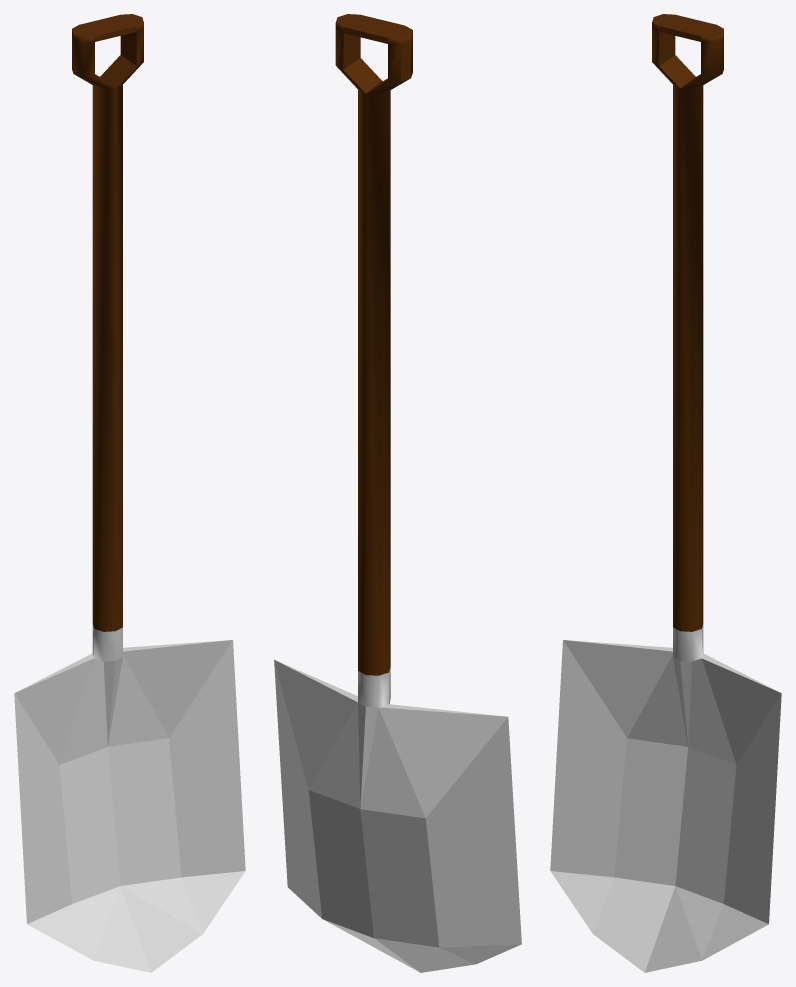
The model's file is Shovel.fbx.
3 renders of one model, left to right at view 1: azimuth 30°, elevation 25°; view 2: azimuth 150°, elevation 25°; view 3: azimuth 330°, elevation 25°, orthographic. The views are drawn at different scales.
Parts seen in each view (by area): view 1: Shovel, Handle; view 2: Shovel, Handle; view 3: Shovel, Handle.
Part boxes in pixels (x1=…): Shovel: x1=14, y1=624, x2=245, y2=972; Handle: x1=72, y1=14, x2=143, y2=631; Shovel: x1=274, y1=659, x2=521, y2=972; Handle: x1=335, y1=14, x2=412, y2=675; Shovel: x1=550, y1=624, x2=781, y2=972; Handle: x1=652, y1=14, x2=723, y2=631.
Bounding box in the file's own units: 40 × 160 × 17.85.
